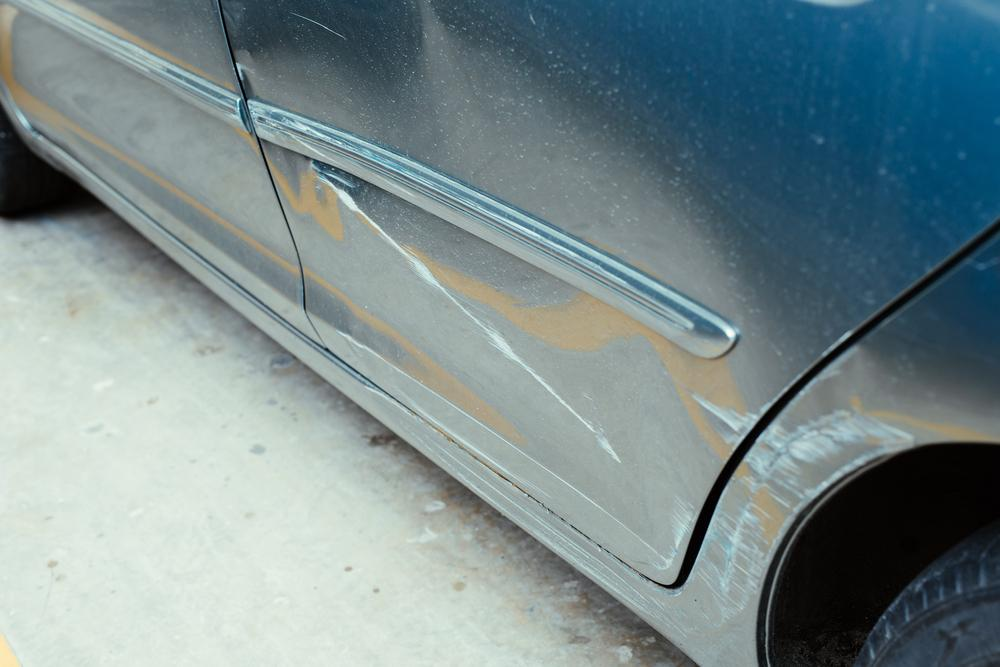scratch: (315, 178, 628, 474), (689, 400, 922, 626), (654, 388, 777, 575)
